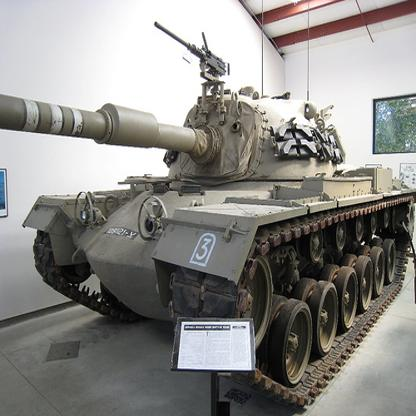Tank: (1, 44, 416, 408)
